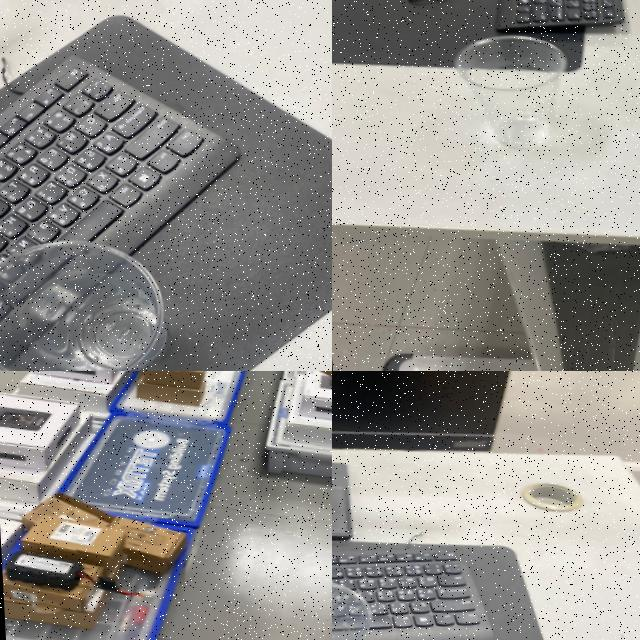glass: (0, 217, 182, 371), (427, 21, 577, 167)
